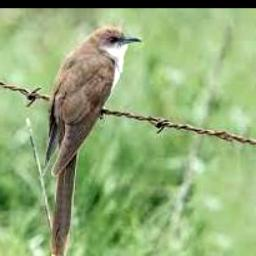Cuckoo: (44, 26, 142, 256)
